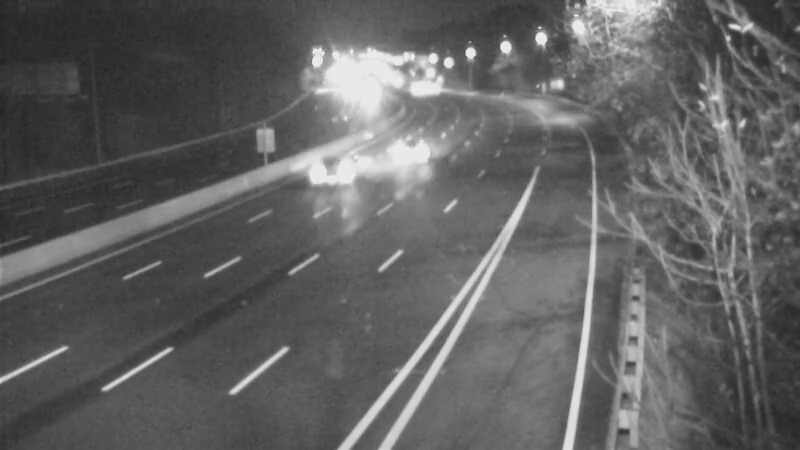vehicle: (285, 129, 365, 209), (382, 123, 432, 173)
